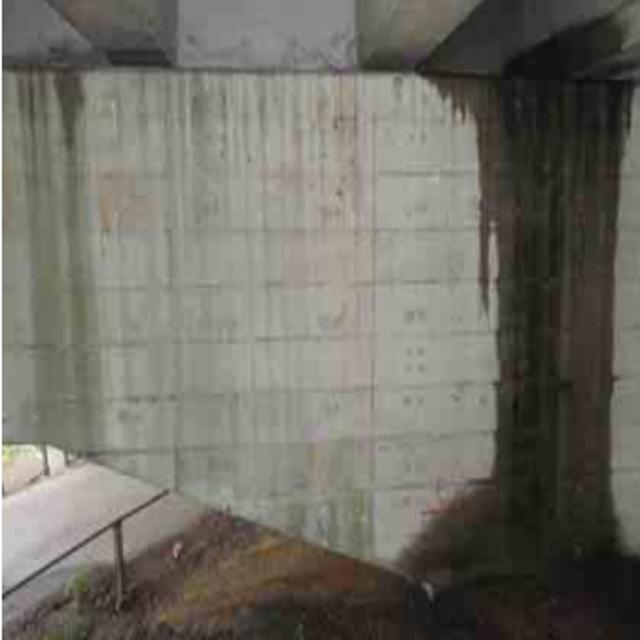leakage: (430, 14, 633, 594)
